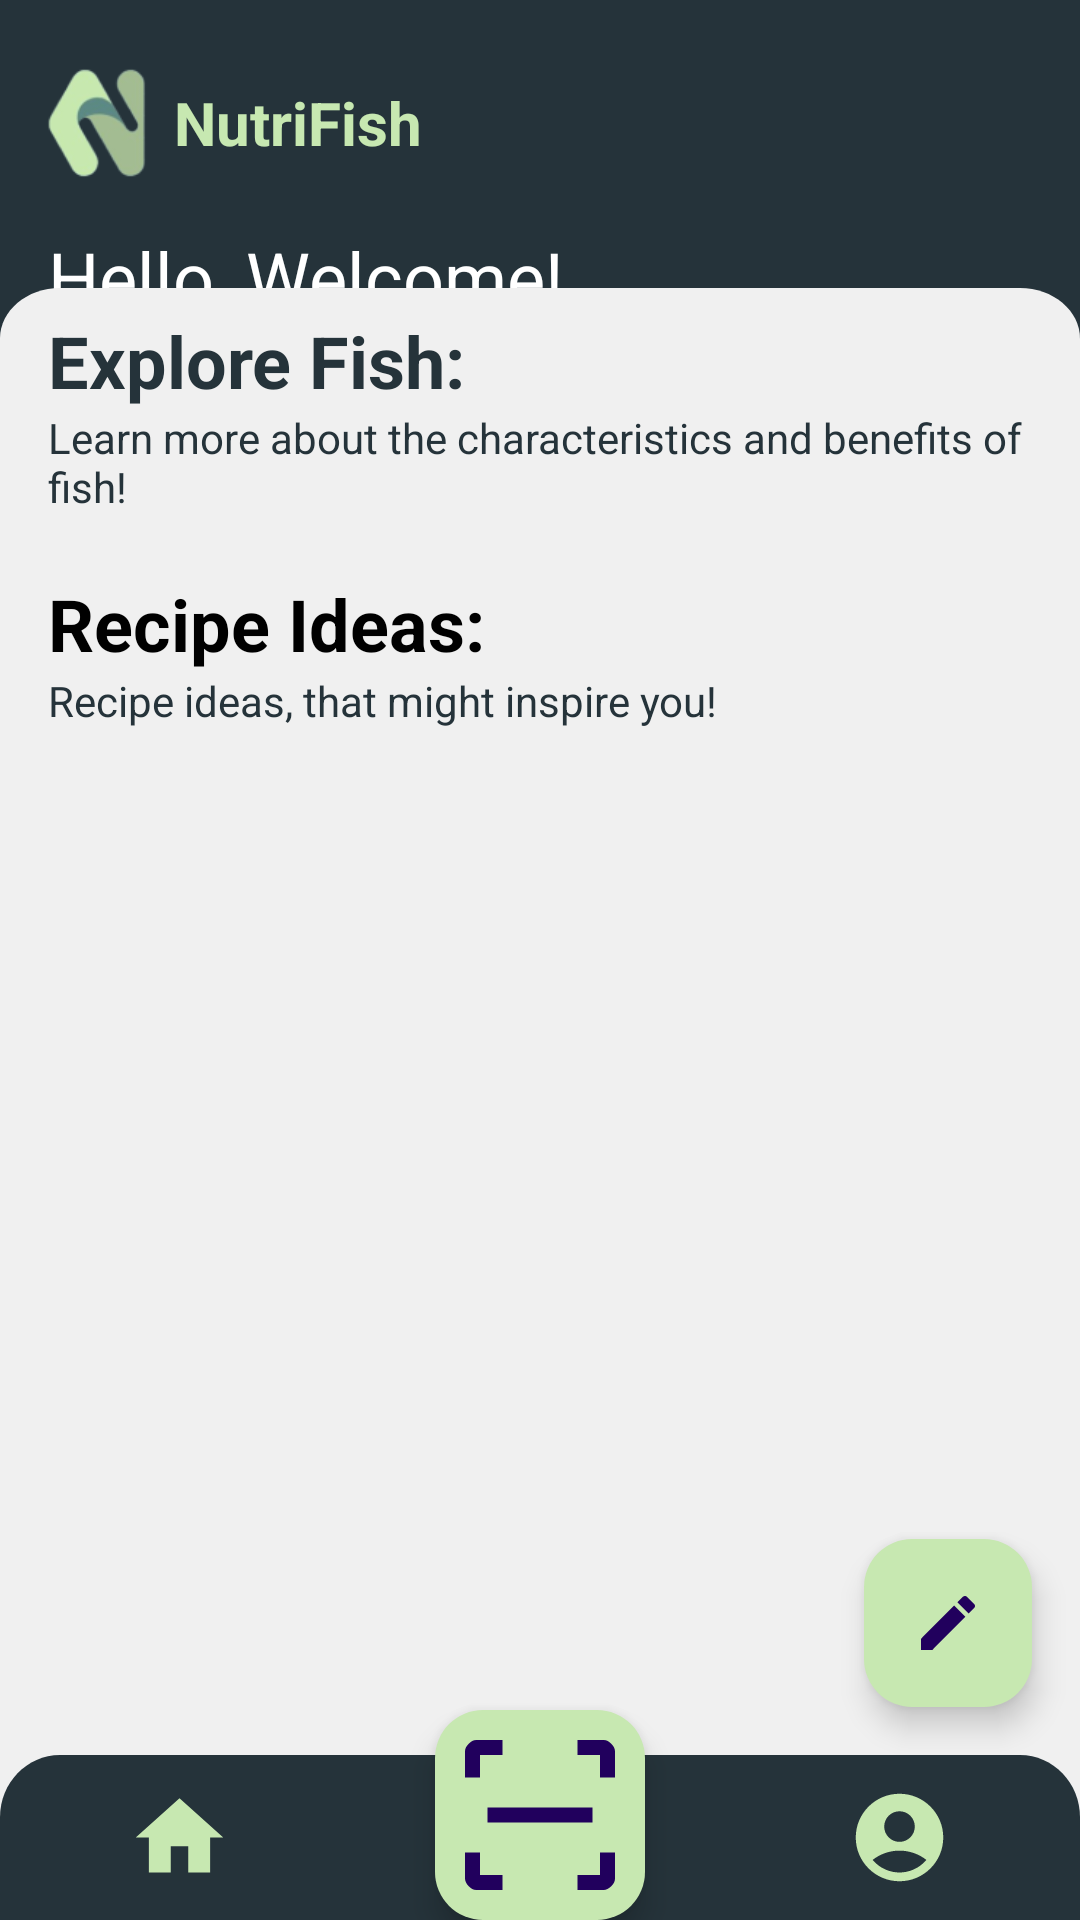

Point at icon controls on the screen. Image size 1080×1920, points as [x,y].
Analyze button: [540,1815]
Post Recipe: [948,1623]
